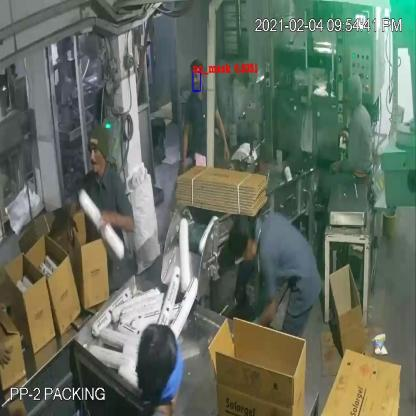no_glove: (94, 198, 140, 250), (244, 287, 286, 328), (177, 117, 199, 183), (211, 98, 230, 164), (0, 332, 18, 372)
